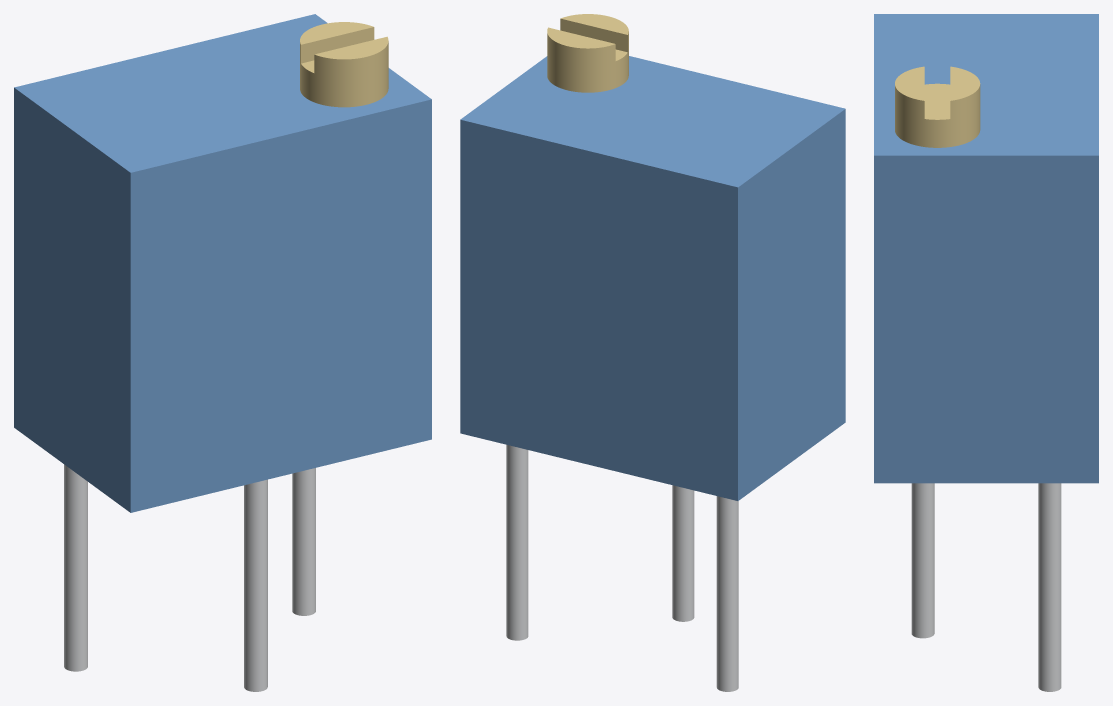
File: potentiometer_3266w_exaggerated.glb
The picture shows the model from 3 angles, left to right: view 1: azimuth 30°, elevation 25°; view 2: azimuth 150°, elevation 25°; view 3: azimuth 270°, elevation 25°; orthographic projection. The views are drawn at different scales.
Visible parts, largest first — view 1: housing, screw, lead_wiper, lead_L, lead_R; view 2: housing, screw, lead_R, lead_L, lead_wiper; view 3: housing, screw, lead_R, lead_wiper.
Part boxes in pixels (bbox=[...]): housing: bbox=[14, 14, 431, 512]; screw: bbox=[300, 22, 388, 107]; lead_wiper: bbox=[244, 479, 267, 691]; lead_L: bbox=[64, 464, 87, 671]; lead_R: bbox=[292, 468, 315, 615]; housing: bbox=[460, 56, 845, 500]; screw: bbox=[547, 14, 628, 92]; lead_R: bbox=[506, 444, 528, 640]; lead_L: bbox=[716, 496, 738, 691]; lead_wiper: bbox=[672, 485, 694, 621]; housing: bbox=[874, 14, 1098, 483]; screw: bbox=[895, 66, 980, 147]; lead_R: bbox=[1038, 483, 1061, 691]; lead_wiper: bbox=[911, 483, 934, 638].
Size of the model in its own units: 6.71 by 13.14 by 4.5.
